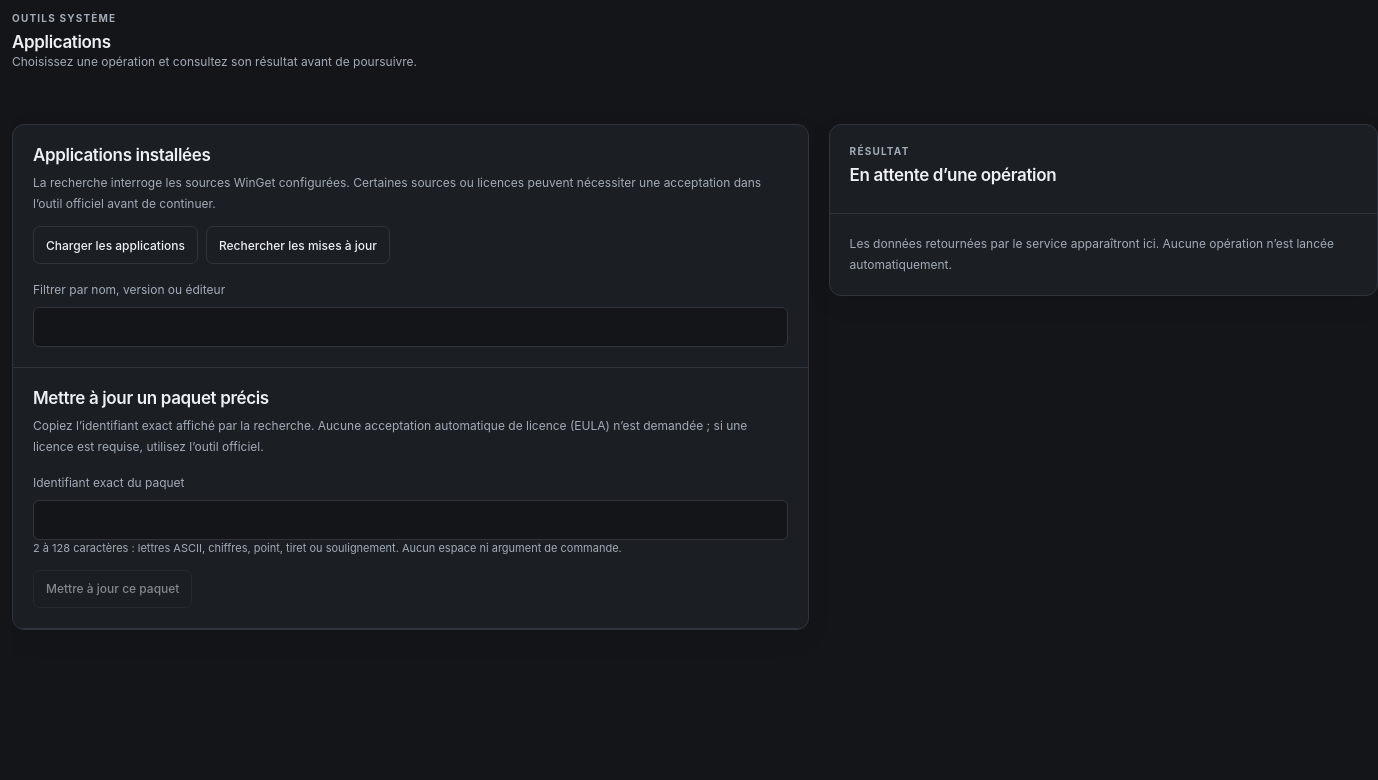
confirmations et résultats de maintenance › rend visible le bilan WinGet après une recherche de logiciels
The width and height of the screenshot is (1378, 780).
Step 1. Click the button "Rechercher les mises à jour" → (298, 245), box [206, 226, 390, 264]
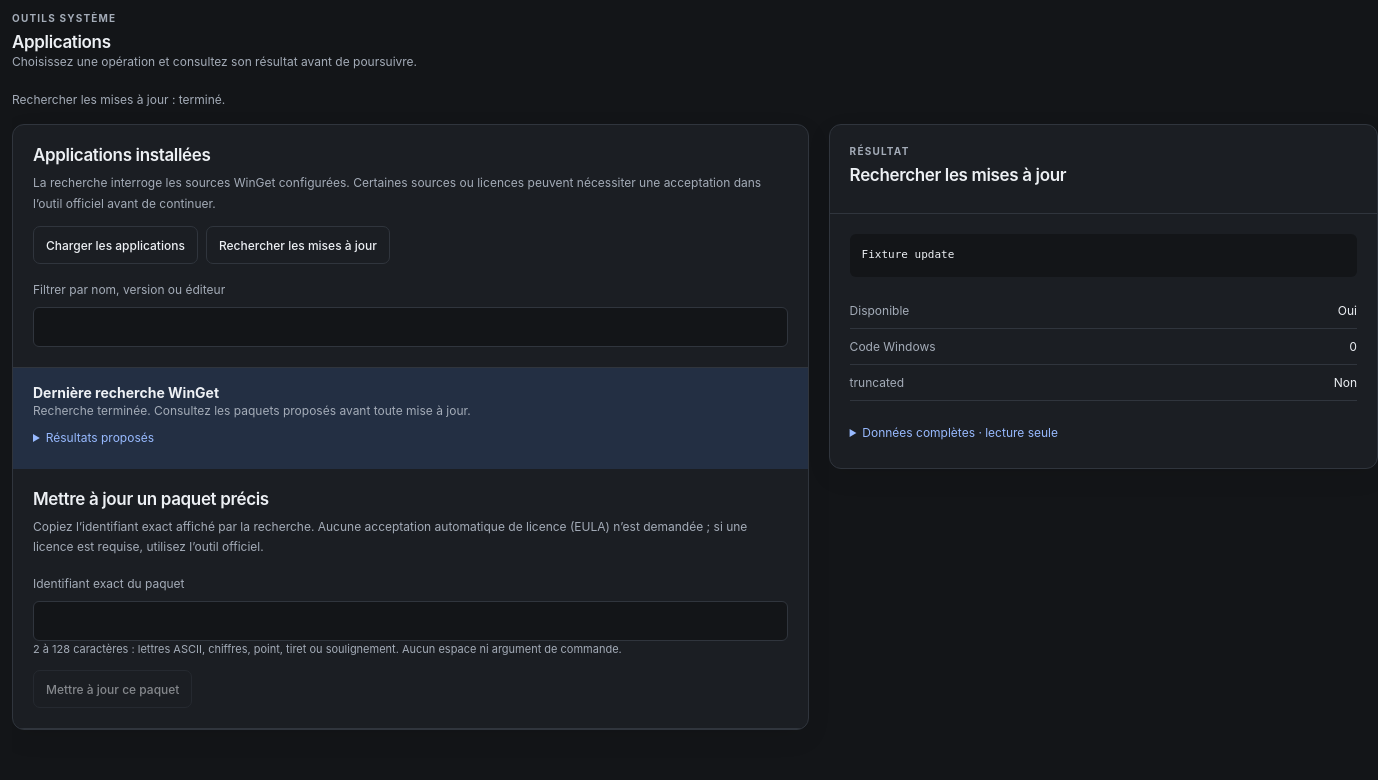
Check: the text "Dernière recherche WinGet" is shown, box [33, 384, 219, 401]
Check: the text "Fixture update" is shown, box [850, 234, 1357, 277]
